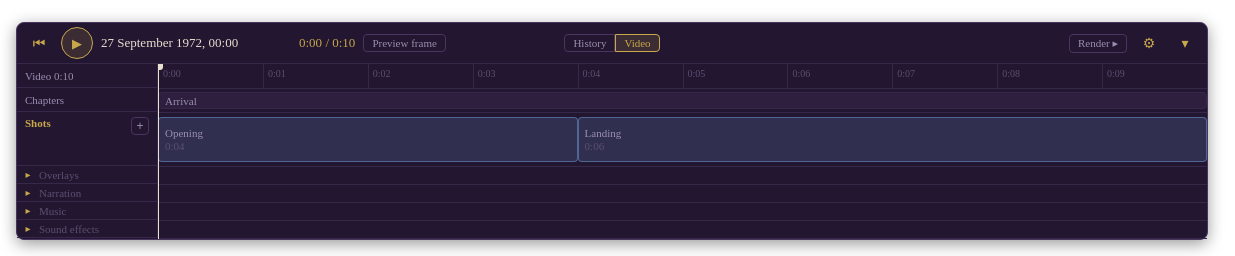
Video mode › the + Row menu lists the rows later weeks add
Step 1. Double-click the element showing "Opening 0:04" → (368, 140), box [158,117,578,162]
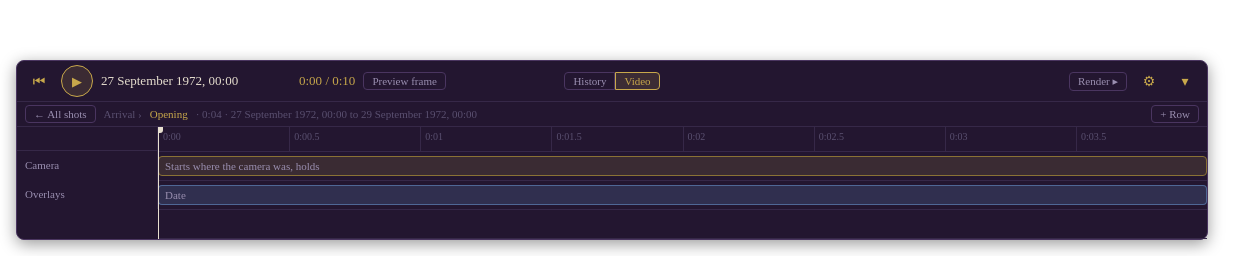
Step 2. Click the button "+ Row" → (1175, 114), box [1151,105,1199,123]
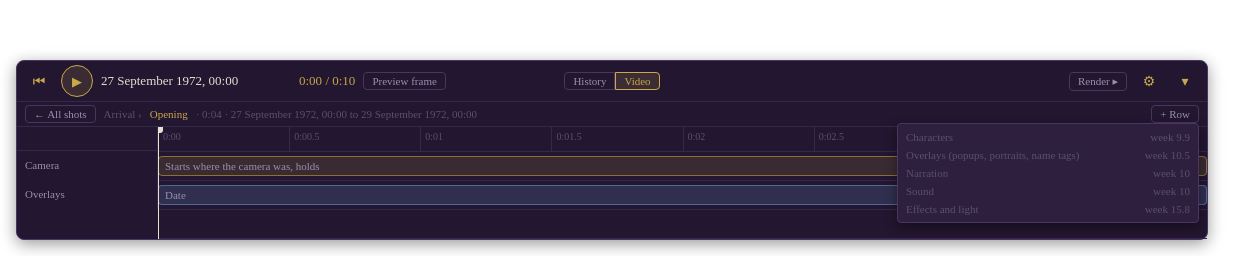
Now the text "Characters" is shown, box [906,131,953,143]
Now the text "week 9.9" is shown, box [1150,131,1190,143]
